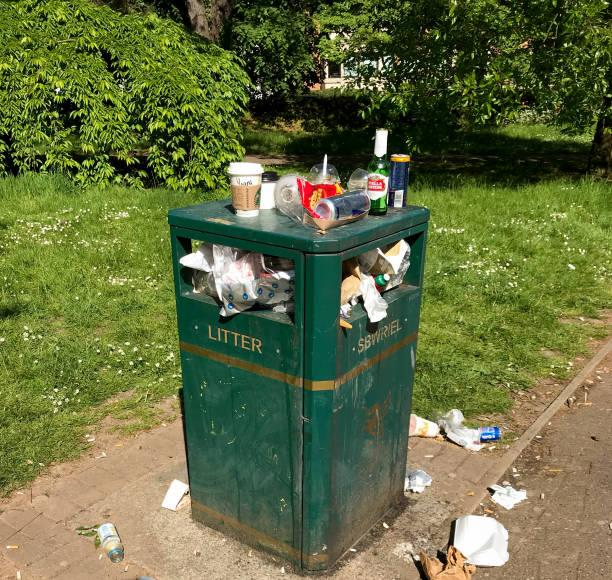trash: (219, 125, 426, 233), (184, 239, 295, 328), (326, 235, 419, 323), (443, 512, 513, 572), (434, 402, 505, 458), (409, 546, 477, 580), (482, 474, 533, 519), (398, 458, 441, 497), (402, 405, 441, 445), (157, 475, 196, 513), (97, 517, 129, 561)
trash_can_overflow: (107, 82, 477, 579)
